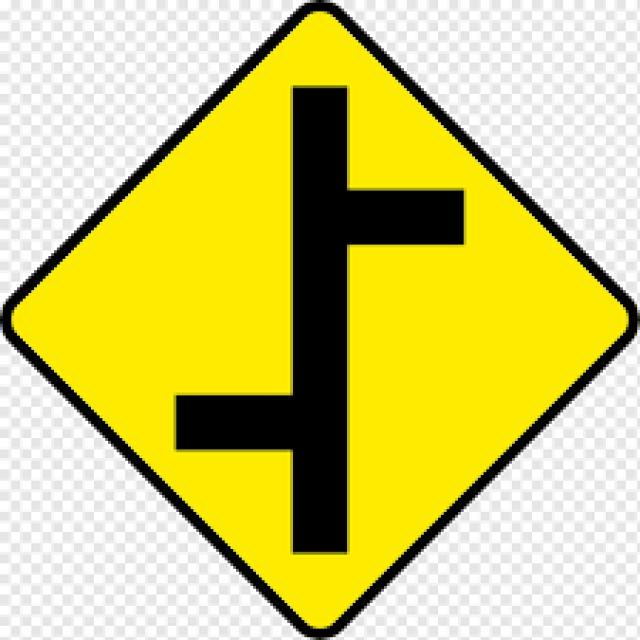staggered intersection: (19, 17, 622, 624)
